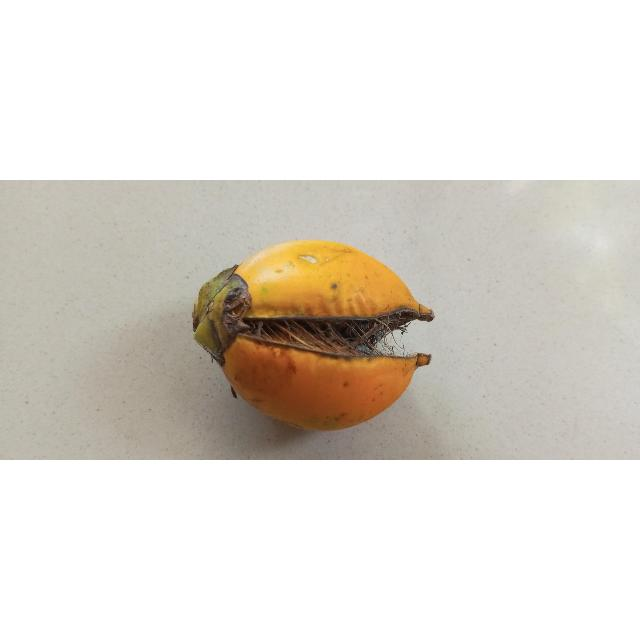damaged: (192, 240, 434, 431)
